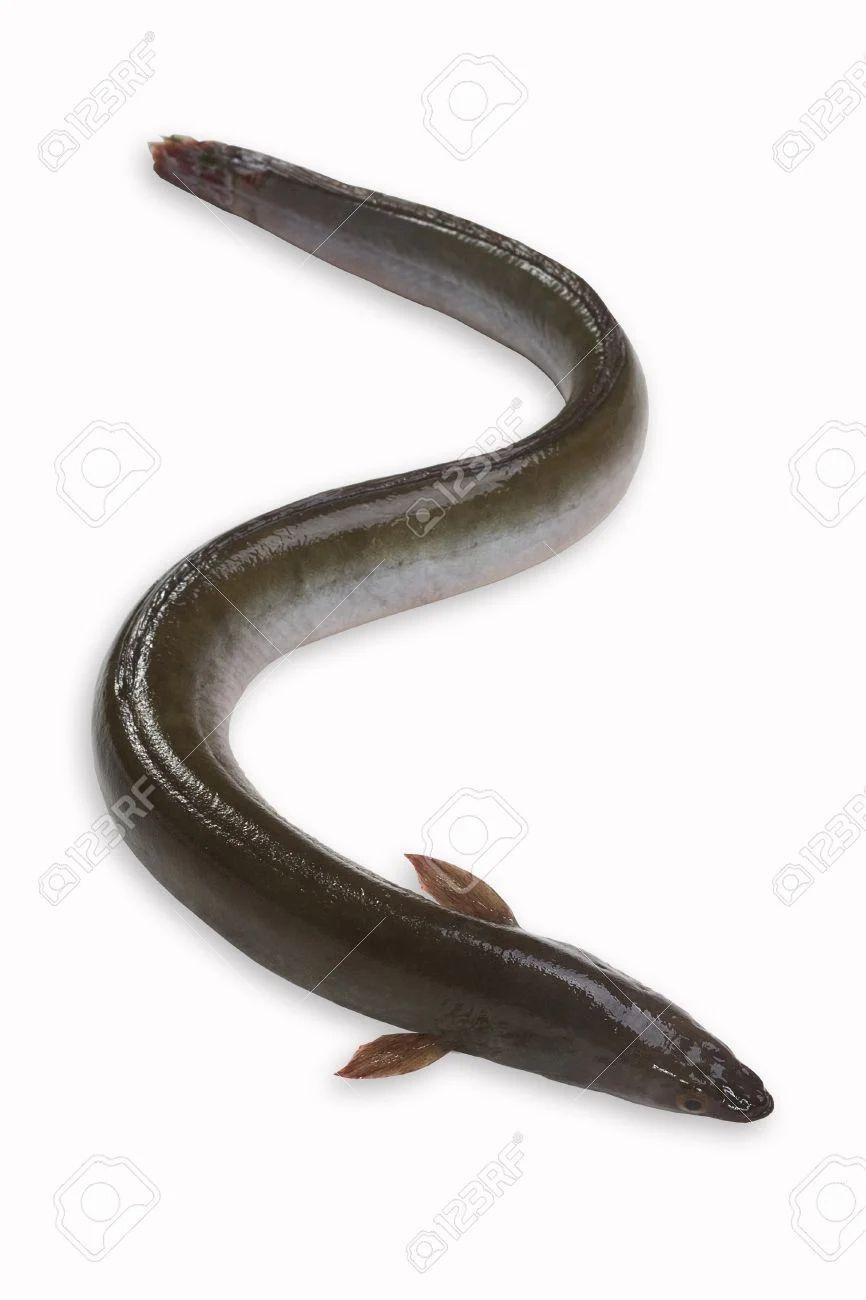Freshwater Eel: (95, 107, 784, 1127)
